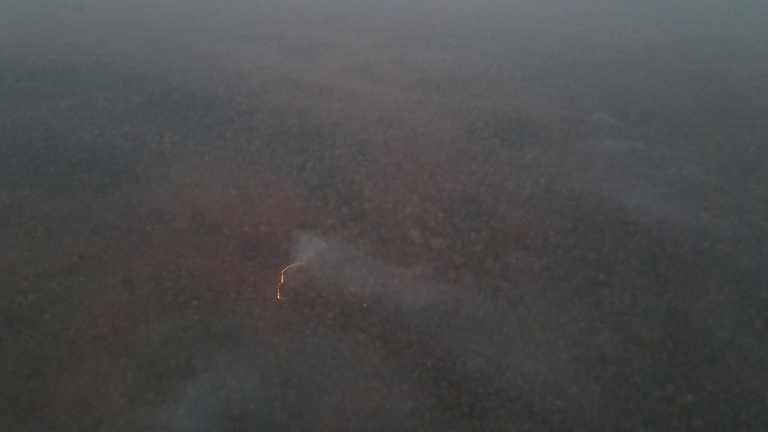fire: (271, 259, 311, 300)
smoke: (287, 225, 408, 303)
